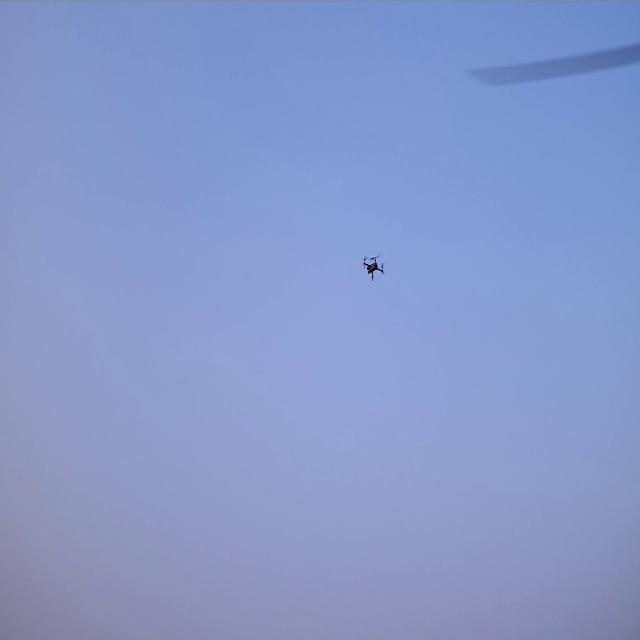UAV: (363, 257, 382, 280)
